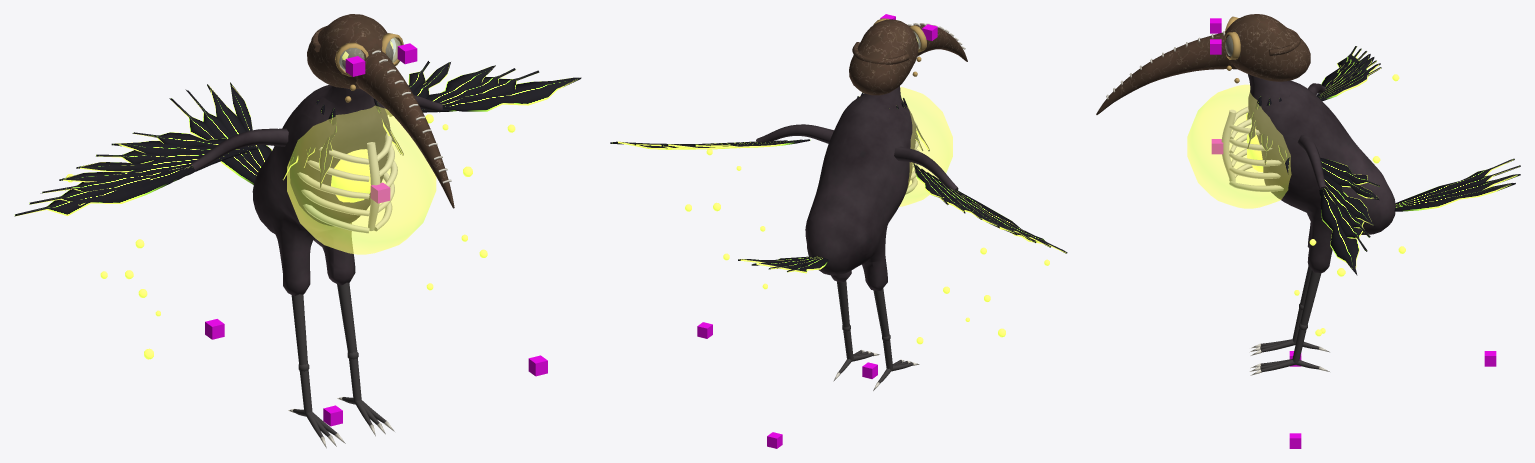
File: 05_corvo_peste.glb
3 renders of one model, left to right at view 1: azimuth 30°, elevation 25°; view 2: azimuth 150°, elevation 25°; view 3: azimuth 270°, elevation 25°, orthographic. The views are drawn at different scales.
Visible parts, largest first — view 1: CorvoPeste__Alone_Tossico, CorvoPeste__Pelle_Spennata, CorvoPeste__Piume_Strappate, CorvoPeste__Maschera_Cuoio, CorvoPeste__Costole, CorvoPeste__Zampe, CorvoPeste__Petto_Radioattivo, CorvoPeste__Polvere_Tossica, CorvoPeste__Ottone; view 2: CorvoPeste__Pelle_Spennata, CorvoPeste__Maschera_Cuoio, CorvoPeste__Piume_Strappate, CorvoPeste__Alone_Tossico, CorvoPeste__Zampe, CorvoPeste__Polvere_Tossica, CorvoPeste__Costole; view 3: CorvoPeste__Pelle_Spennata, CorvoPeste__Alone_Tossico, CorvoPeste__Piume_Strappate, CorvoPeste__Maschera_Cuoio, CorvoPeste__Costole, CorvoPeste__Zampe.
Boxes of the visible parts, left/top/right/bottom form: CorvoPeste__Alone_Tossico: left=287, top=105, right=436, bottom=254; CorvoPeste__Pelle_Spennata: left=191, top=85, right=442, bottom=296; CorvoPeste__Piume_Strappate: left=14, top=61, right=581, bottom=216; CorvoPeste__Maschera_Cuoio: left=307, top=14, right=454, bottom=208; CorvoPeste__Costole: left=288, top=50, right=451, bottom=448; CorvoPeste__Zampe: left=291, top=282, right=386, bottom=437; CorvoPeste__Petto_Radioattivo: left=331, top=149, right=370, bottom=202; CorvoPeste__Polvere_Tossica: left=66, top=114, right=515, bottom=359; CorvoPeste__Ottone: left=335, top=33, right=403, bottom=102; CorvoPeste__Pelle_Spennata: left=756, top=86, right=958, bottom=290; CorvoPeste__Maschera_Cuoio: left=849, top=19, right=967, bottom=95; CorvoPeste__Piume_Strappate: left=610, top=92, right=1067, bottom=273; CorvoPeste__Alone_Tossico: left=859, top=87, right=952, bottom=206; CorvoPeste__Zampe: left=837, top=280, right=913, bottom=383; CorvoPeste__Polvere_Tossica: left=685, top=149, right=1049, bottom=344; CorvoPeste__Costole: left=833, top=23, right=965, bottom=390; CorvoPeste__Pelle_Spennata: left=1248, top=74, right=1395, bottom=273; CorvoPeste__Alone_Tossico: left=1187, top=84, right=1291, bottom=208; CorvoPeste__Piume_Strappate: left=1246, top=46, right=1520, bottom=275; CorvoPeste__Maschera_Cuoio: left=1096, top=14, right=1310, bottom=114; CorvoPeste__Costole: left=1106, top=31, right=1329, bottom=375; CorvoPeste__Zampe: left=1260, top=266, right=1321, bottom=372.
Bounding box in the file's own units: 4.15 × 2.95 × 3.27.
12 materials, 3 textured.
